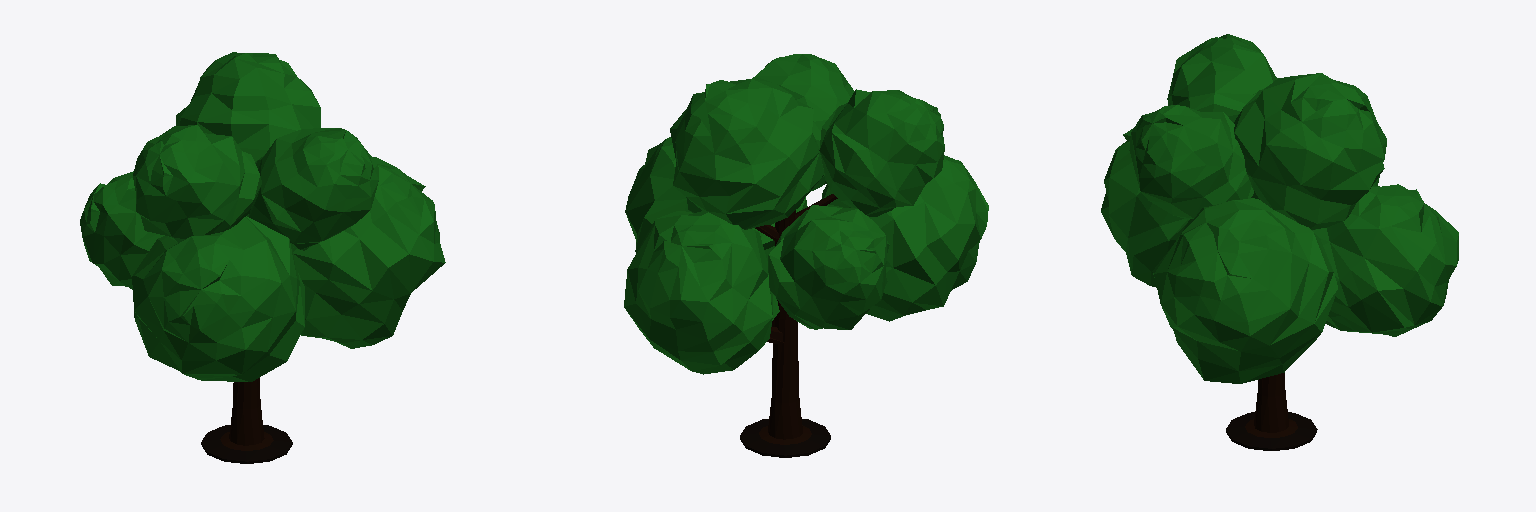
Rendered from tree.obj.
3 renders of one model, left to right at view 1: azimuth 30°, elevation 25°; view 2: azimuth 150°, elevation 25°; view 3: azimuth 270°, elevation 25°, orthographic.
Visible parts, largest first — view 1: store_2_3_4_on_lot; view 2: store_2_3_4_on_lot; view 3: store_2_3_4_on_lot.
Boxes of the visible parts, box(x1,y1,x2,y2) form: store_2_3_4_on_lot: box(80, 52, 445, 463); store_2_3_4_on_lot: box(624, 54, 988, 457); store_2_3_4_on_lot: box(1101, 34, 1458, 450).
Bounding box in the file's own units: 8.07 × 8.95 × 7.96.